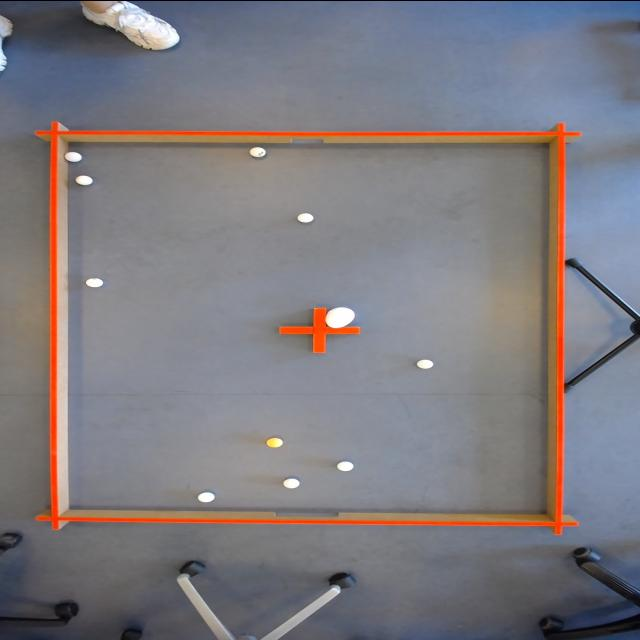cross: (277, 305, 362, 355)
egg: (324, 304, 358, 328)
orange_ball: (261, 436, 285, 448)
white_ball: (245, 144, 269, 158), (333, 458, 357, 472), (82, 274, 106, 288), (294, 211, 320, 223), (195, 490, 221, 502), (412, 357, 438, 369), (62, 150, 86, 162), (74, 174, 98, 186), (280, 476, 302, 488)
